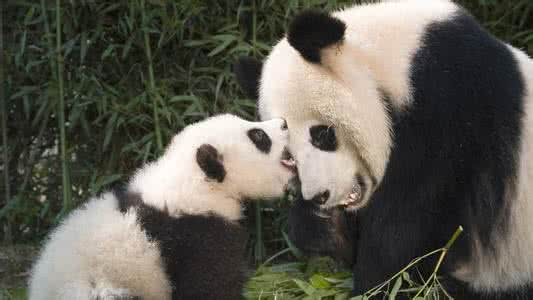panda: (237, 1, 531, 300), (29, 109, 296, 300)
